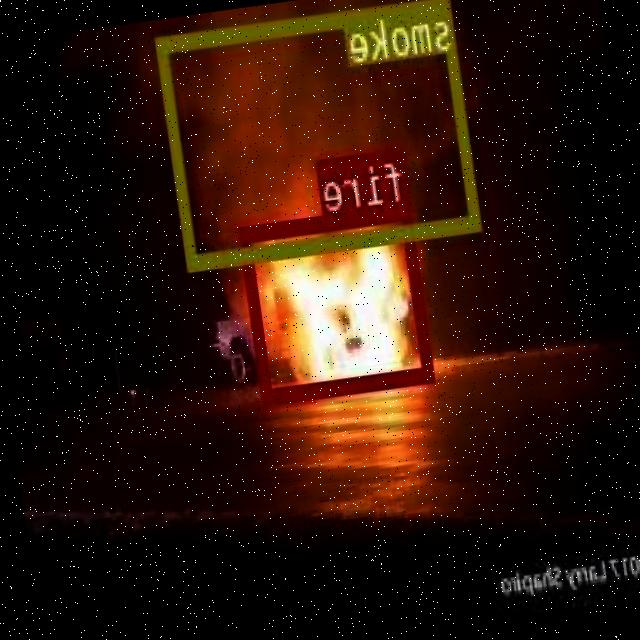fire: (240, 200, 437, 402)
smoke: (157, 0, 484, 269)
